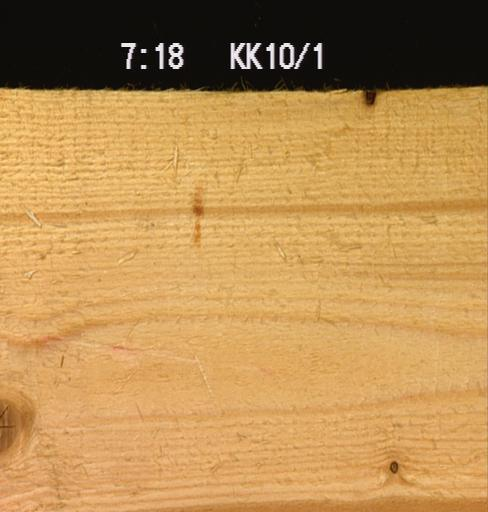dry_knot: (388, 457, 399, 474)
sound_knot: (0, 396, 22, 453)
